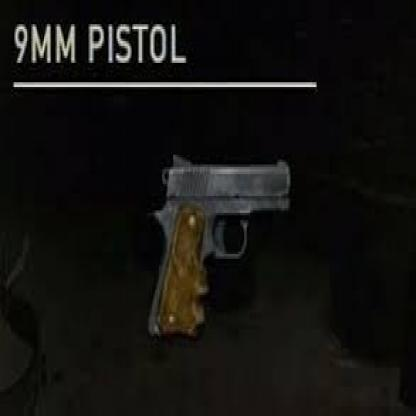Pistol: (142, 155, 290, 336)
